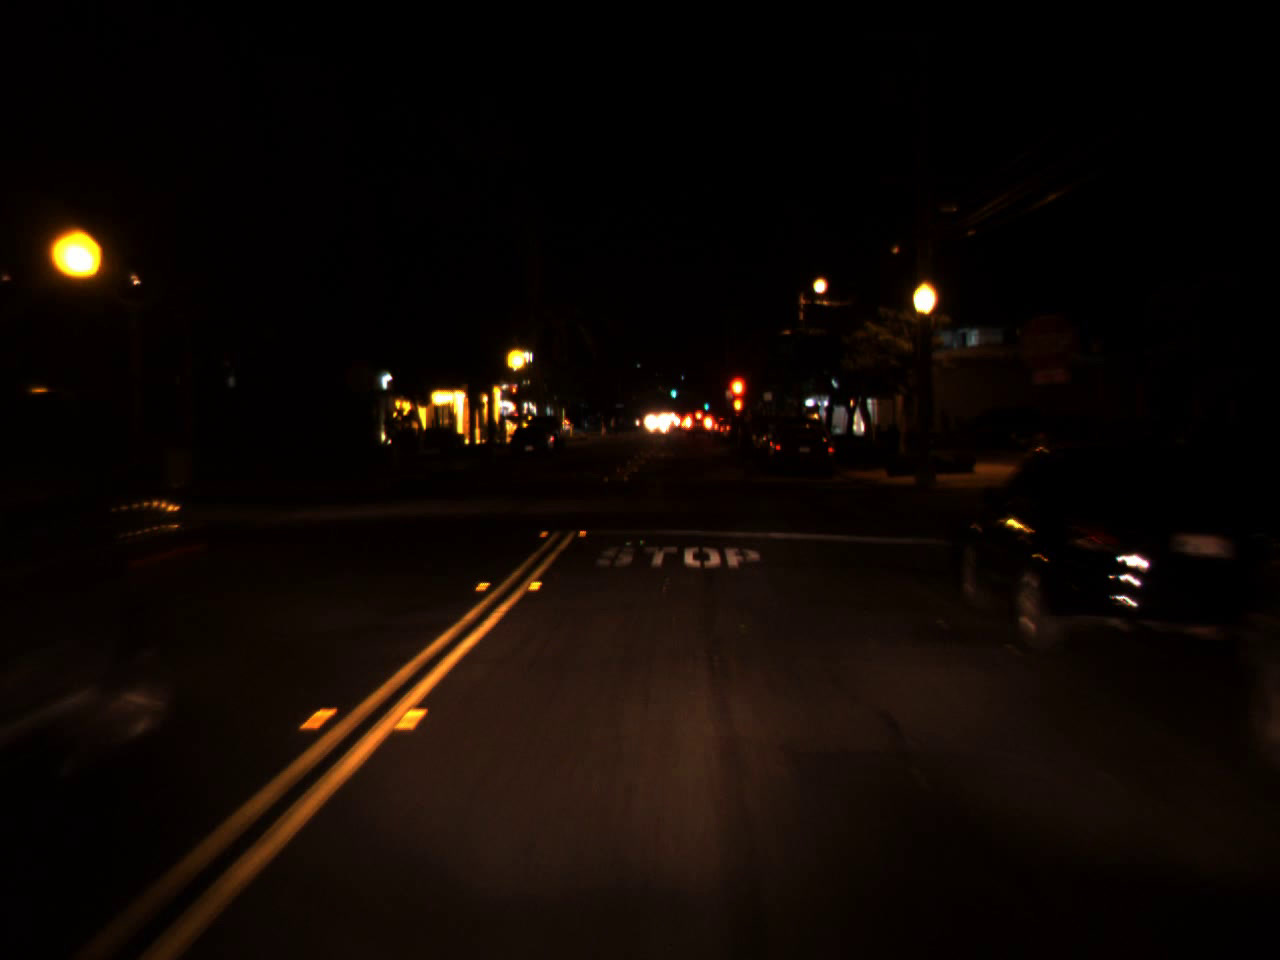go: (668, 379, 677, 400), (702, 398, 709, 410)
stop: (728, 376, 747, 413), (508, 382, 520, 403)
